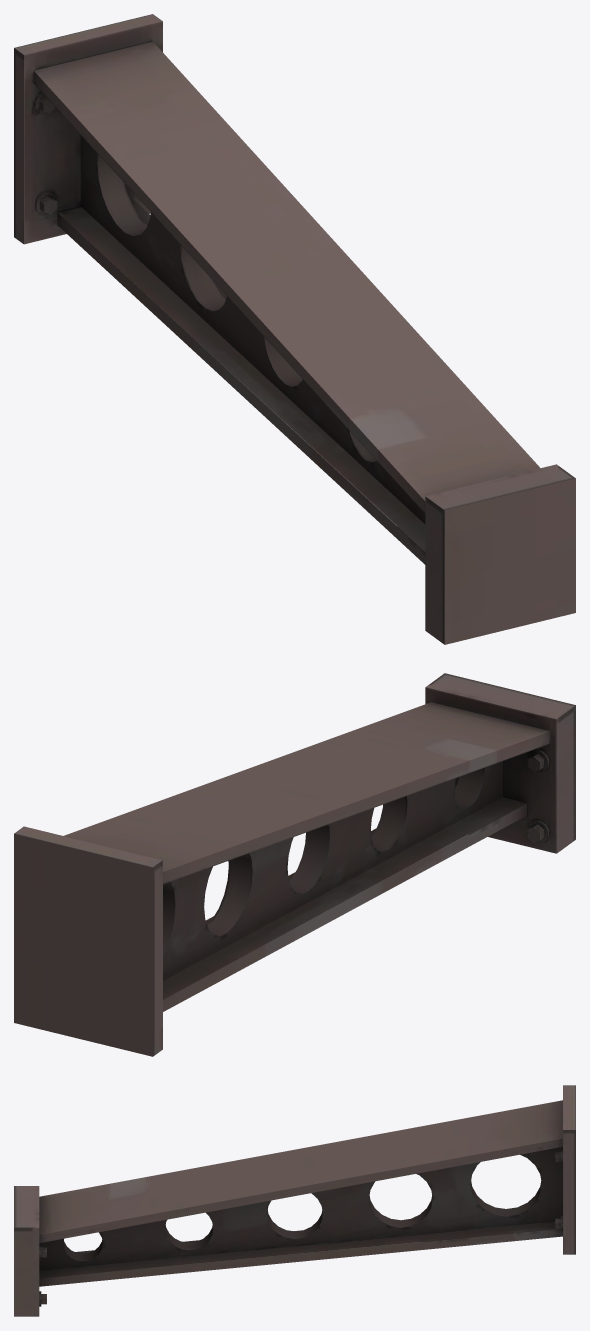
3 renders of one model, top to bottom at view 1: azimuth 30°, elevation 25°; view 2: azimuth 150°, elevation 25°; view 3: azimuth 270°, elevation 25°, orthographic. The views are drawn at different scales.
Visible parts, largest first — view 1: body0_model0_lod0_mesh0; view 2: body0_model0_lod0_mesh0; view 3: body0_model0_lod0_mesh0.
Part boxes in pixels (bbox=[...]): body0_model0_lod0_mesh0: bbox=[14, 14, 575, 644]; body0_model0_lod0_mesh0: bbox=[14, 673, 575, 1056]; body0_model0_lod0_mesh0: bbox=[14, 1085, 575, 1316].
Bounding box in the file's own units: 23.29 × 45.75 × 124.
Materials: 1 (1 with a texture image).
